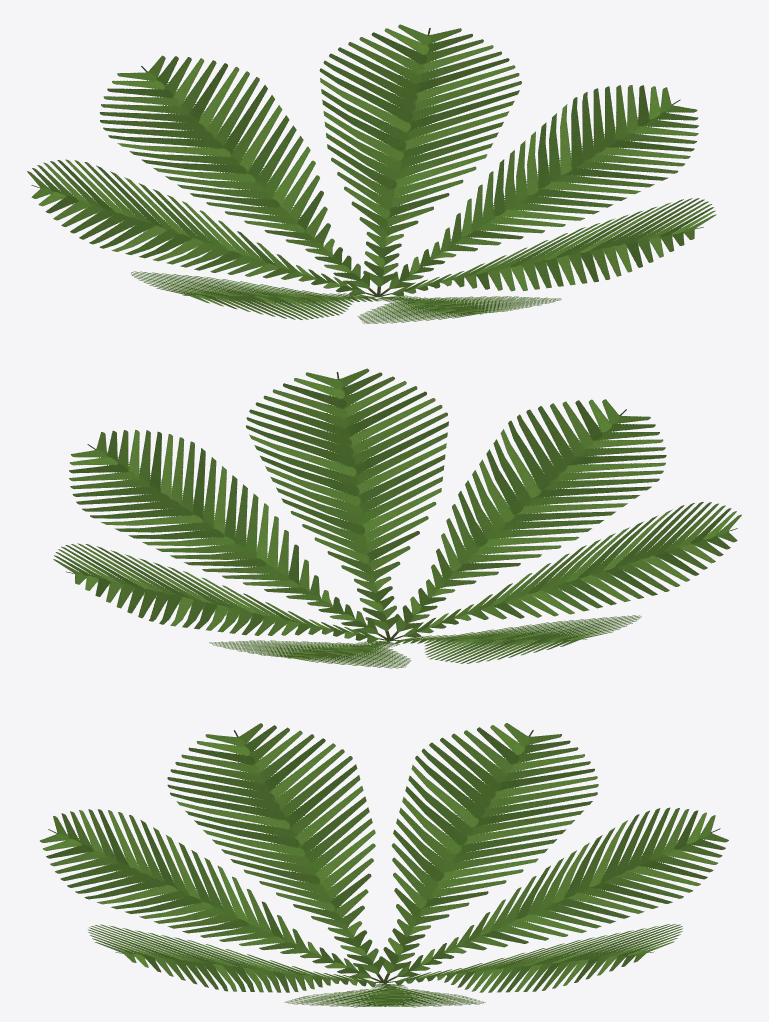
File: fern0.fbx
The picture shows the model from 3 angles, top to bottom: view 1: azimuth 30°, elevation 25°; view 2: azimuth 150°, elevation 25°; view 3: azimuth 270°, elevation 25°; orthographic projection.
Parts seen in each view (by area): view 1: fern0; view 2: fern0; view 3: fern0.
Boxes of the visible parts, bbox=[...] form: fern0: bbox=[27, 24, 716, 323]; fern0: bbox=[53, 368, 741, 668]; fern0: bbox=[40, 723, 728, 1007].
Size of the model in its own units: 1.94 by 0.37 by 1.99.
Materials: 1 (1 with a texture image).
